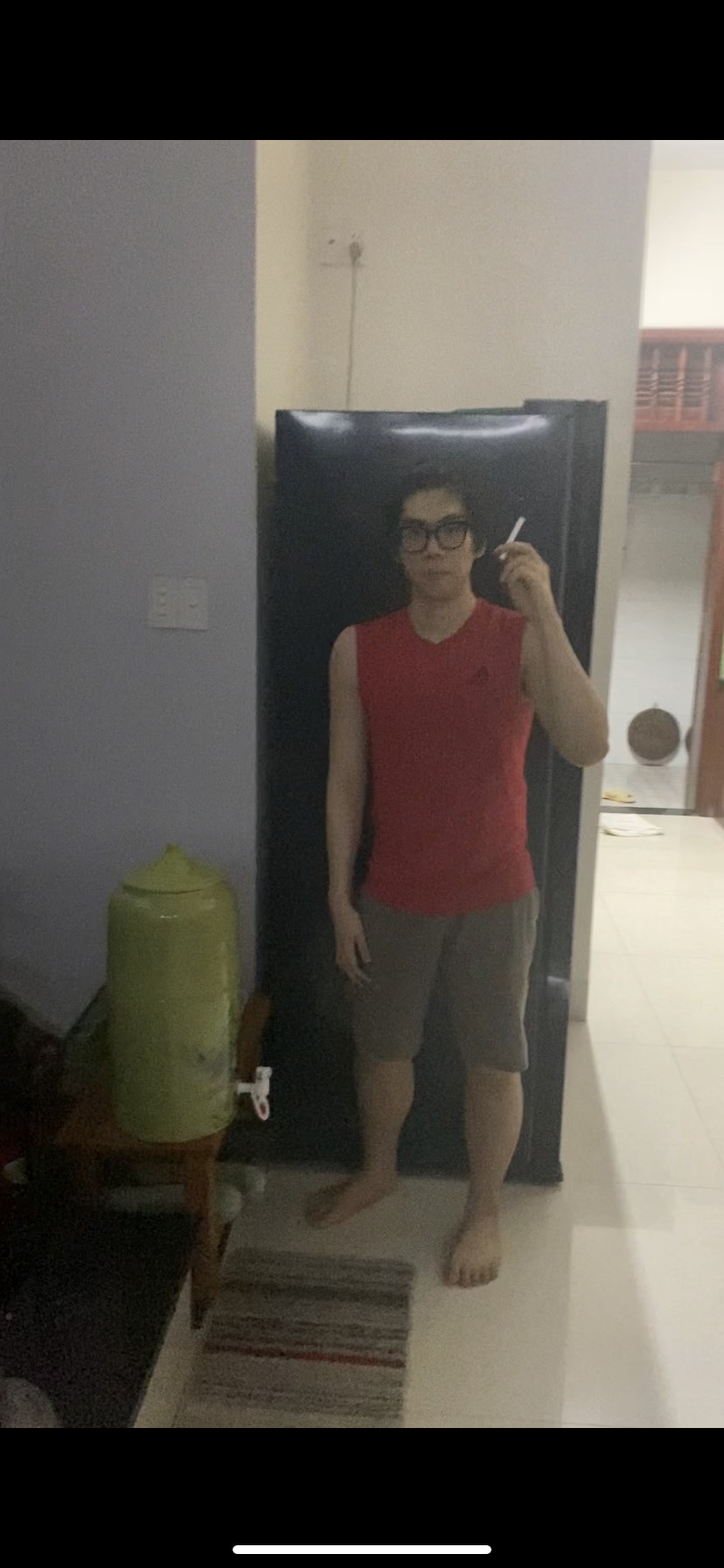cigarette: (504, 512, 533, 545)
person: (321, 451, 609, 1327)
